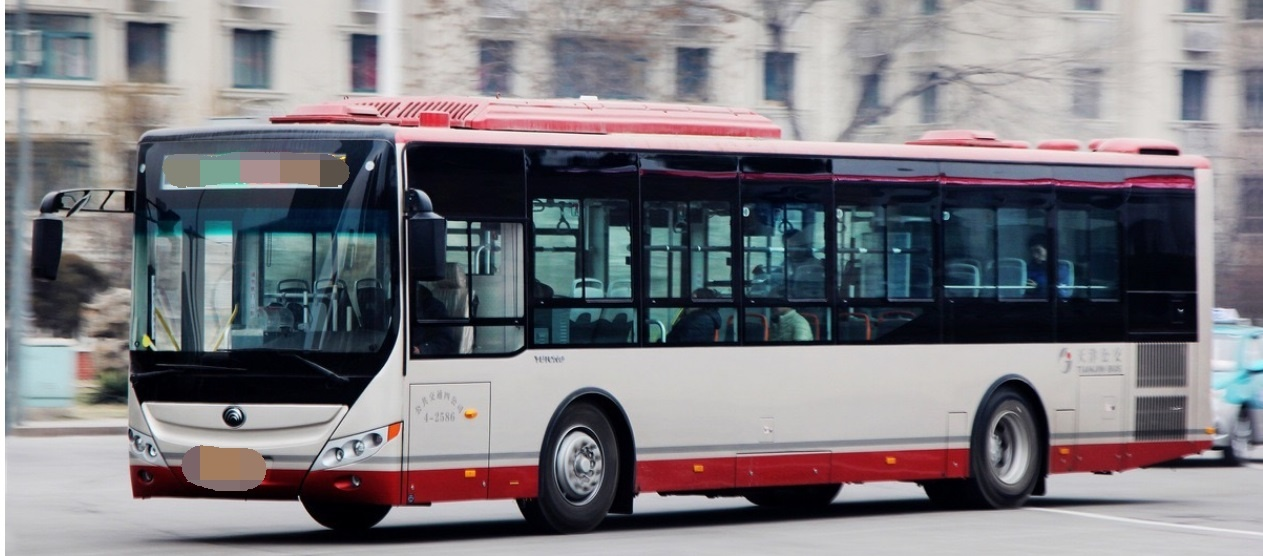bus: (48, 84, 1237, 531)
